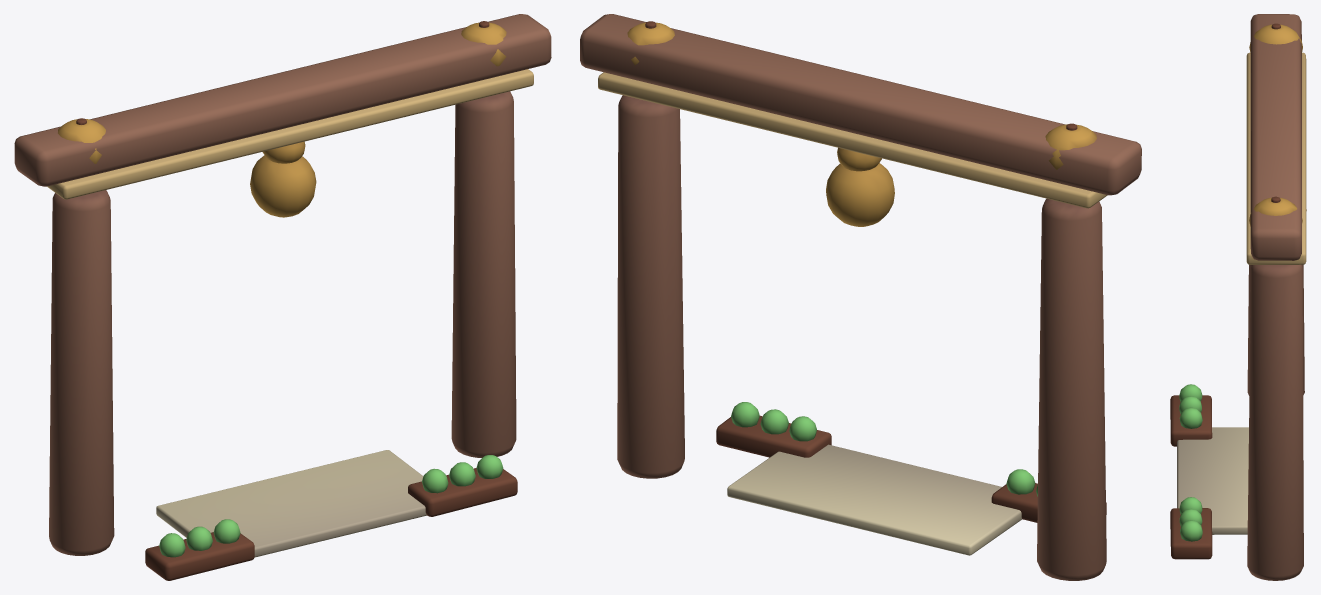
3 renders of one model, left to right at view 1: azimuth 30°, elevation 25°; view 2: azimuth 150°, elevation 25°; view 3: azimuth 270°, elevation 25°, orthographic. The views are drawn at different scales.
Parts seen in each view (by area): view 1: gate_d893277f; view 2: gate_d893277f; view 3: gate_d893277f.
Part boxes in pixels (x1,y1,x2,y2): gate_d893277f: (14, 14, 551, 580); gate_d893277f: (580, 14, 1141, 580); gate_d893277f: (1170, 14, 1306, 580).
Size of the model in its own units: 5.3 by 4.19 by 1.38.
